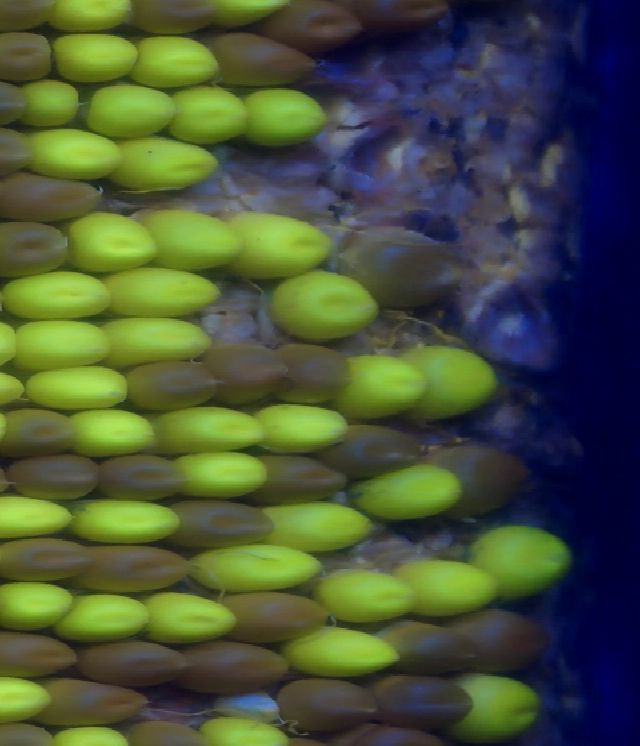fluorescent: (263, 268, 379, 337), (471, 526, 575, 602), (399, 344, 501, 420), (349, 461, 478, 521), (225, 209, 333, 277), (60, 495, 188, 550), (285, 626, 404, 681), (453, 670, 539, 746), (393, 559, 502, 618), (110, 137, 220, 195), (188, 546, 326, 592), (142, 211, 242, 274), (242, 84, 334, 151), (65, 205, 155, 273), (18, 364, 138, 415), (339, 351, 428, 419), (98, 264, 221, 313), (0, 271, 113, 324), (320, 568, 420, 627), (153, 405, 272, 454), (25, 127, 125, 185), (83, 82, 180, 139), (103, 314, 209, 366), (255, 504, 372, 551), (142, 587, 238, 644), (44, 27, 142, 82), (132, 31, 228, 87), (172, 447, 271, 500), (168, 81, 247, 147), (15, 318, 114, 370), (255, 399, 356, 449), (64, 405, 159, 457), (62, 593, 152, 643), (0, 581, 76, 633), (0, 496, 75, 541), (15, 79, 81, 128), (195, 713, 289, 746), (214, 1, 295, 38), (0, 673, 55, 724), (43, 1, 135, 31), (52, 724, 135, 746)
nonfluorescent: (350, 227, 473, 318), (426, 446, 532, 515), (31, 672, 155, 728), (454, 609, 552, 677), (78, 540, 192, 598), (369, 669, 479, 728), (268, 676, 383, 731), (261, 2, 373, 56), (174, 643, 288, 696), (211, 31, 320, 85), (76, 636, 193, 686), (117, 362, 225, 416), (203, 340, 290, 407), (318, 420, 417, 478), (216, 592, 333, 640), (4, 168, 106, 223), (363, 616, 468, 669), (276, 338, 354, 408), (94, 448, 188, 504), (168, 499, 278, 546), (5, 451, 104, 503), (0, 535, 98, 586), (255, 451, 343, 501), (0, 219, 72, 279), (0, 627, 79, 678), (0, 409, 81, 456), (128, 1, 227, 39), (364, 1, 448, 41), (0, 33, 58, 83), (0, 124, 43, 178), (128, 720, 206, 746), (0, 1, 55, 34), (351, 728, 450, 746), (0, 721, 57, 746)
